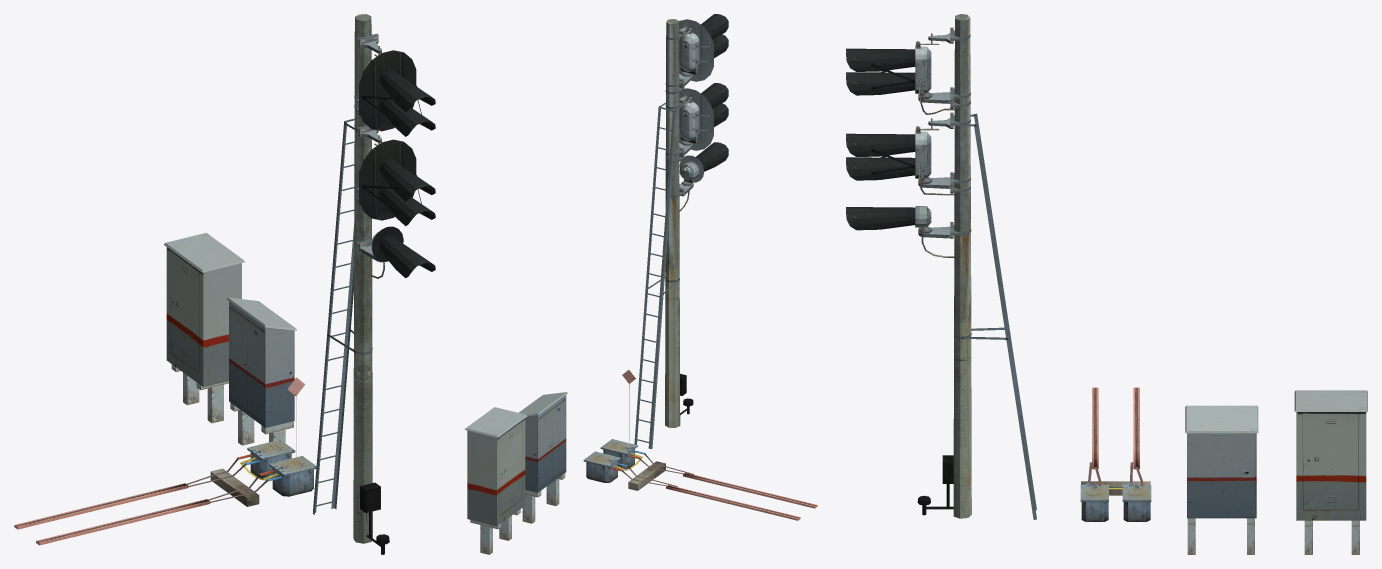
The model's file is signal_enter.gltf.
3 views of the same model, side by side, from view 1: azimuth 30°, elevation 25°; view 2: azimuth 150°, elevation 25°; view 3: azimuth 270°, elevation 25° (orthographic). The views are drawn at different scales.
Size of the model in its own units: 4.6 by 7.66 by 6.98.
Materials: 1 (1 with a texture image).
